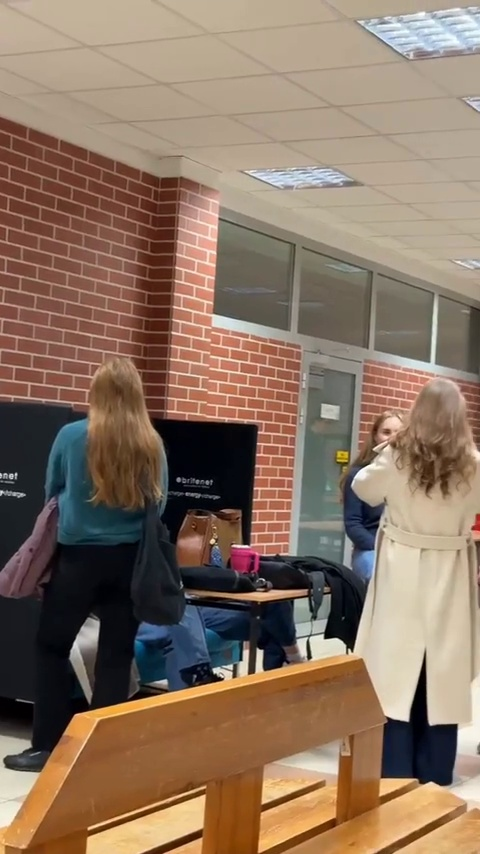no vest: (41, 356, 177, 716), (350, 368, 480, 721)
